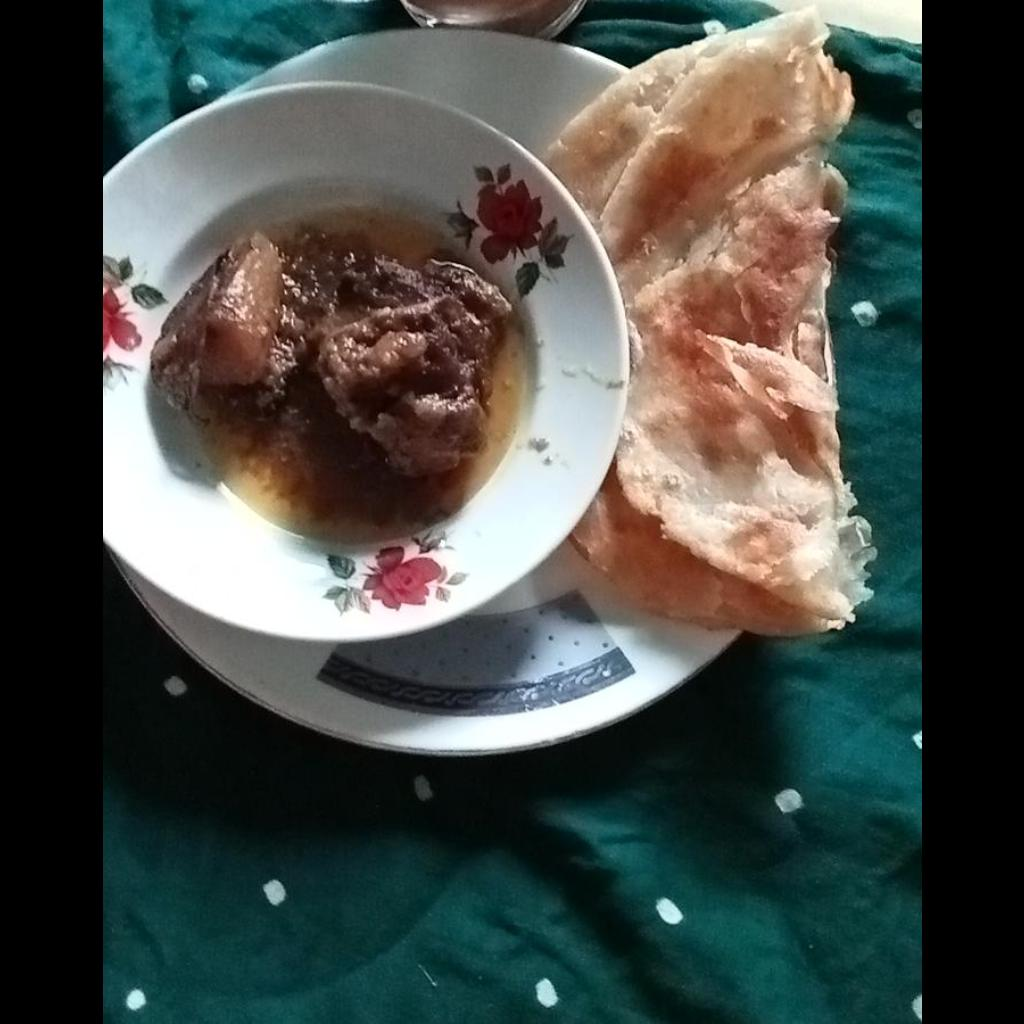chicken: (159, 237, 507, 479)
ruti: (537, 7, 874, 641)
